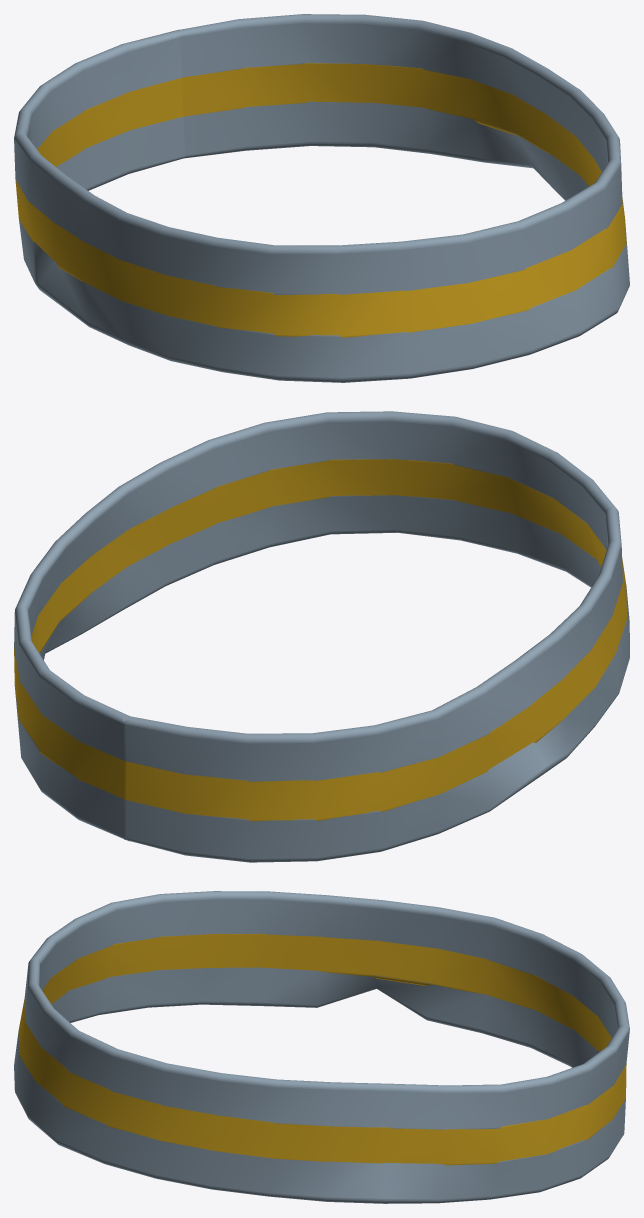
The model's file is zweetband.fbx.
The picture shows the model from 3 angles, top to bottom: view 1: azimuth 30°, elevation 25°; view 2: azimuth 150°, elevation 25°; view 3: azimuth 270°, elevation 25°; orthographic projection. The views are drawn at different scales.
Visible parts, largest first — view 1: Pattern2D_4640244, Pattern2D_37981, Pattern2D_4640243; view 2: Pattern2D_4640244, Pattern2D_37981, Pattern2D_4640243; view 3: Pattern2D_4640244, Pattern2D_37981, Pattern2D_4640243.
Part boxes in pixels (bbox=[...]): Pattern2D_4640244: bbox=[14, 14, 622, 294]; Pattern2D_37981: bbox=[19, 101, 629, 382]; Pattern2D_4640243: bbox=[15, 63, 626, 337]; Pattern2D_4640244: bbox=[14, 411, 622, 781]; Pattern2D_37981: bbox=[14, 495, 629, 862]; Pattern2D_4640243: bbox=[14, 459, 626, 821]; Pattern2D_4640244: bbox=[24, 891, 629, 1129]; Pattern2D_37981: bbox=[14, 967, 625, 1203]; Pattern2D_4640243: bbox=[18, 934, 626, 1165].
Size of the model in its own units: 17.63 by 5.92 by 20.95.
